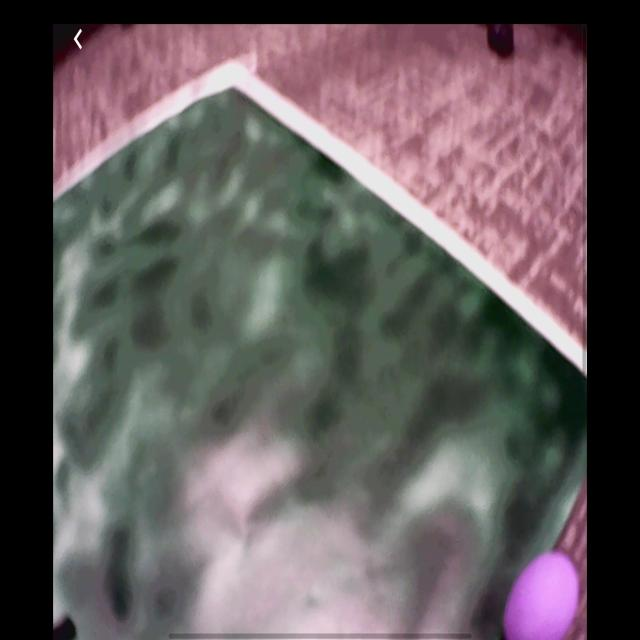ball: (502, 552, 581, 640)
